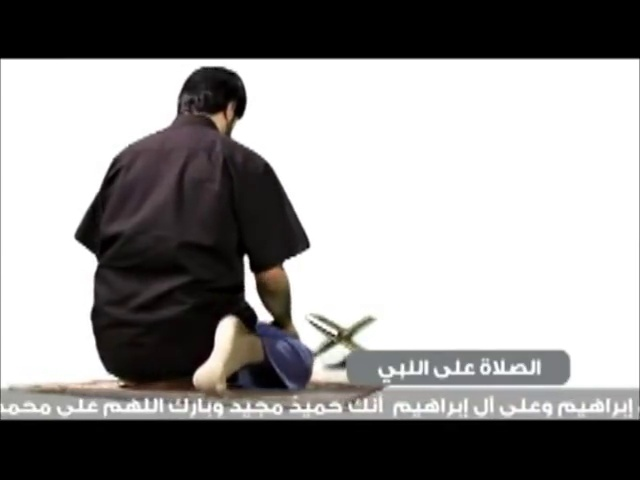sitting: (69, 61, 319, 400)
